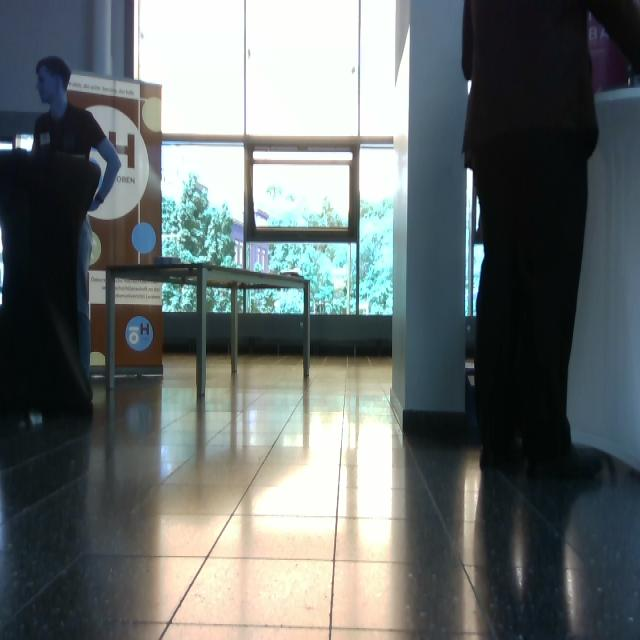light bulb: (132, 223, 157, 255), (89, 231, 102, 267), (14, 133, 34, 152), (393, 133, 408, 156)
person: (461, 1, 640, 481), (30, 56, 122, 402)
pillar: (392, 1, 469, 425)
table: (100, 260, 315, 401)
tiled floor: (2, 352, 639, 638)
window: (132, 1, 398, 322)
